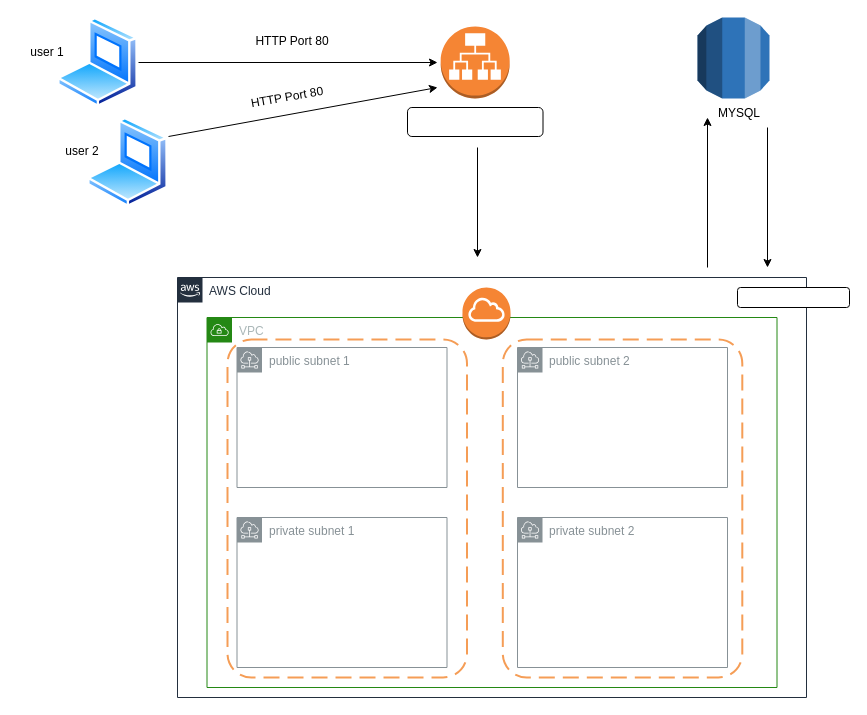
Some shapes in this 867 by 715 pixel diagram are drawn without their labels. Here are the shapes that lost their labels. From the top down, the centre of each, then its label:
[474,121]: Application Load Balancer
[793,297]: Region - us-east-1
